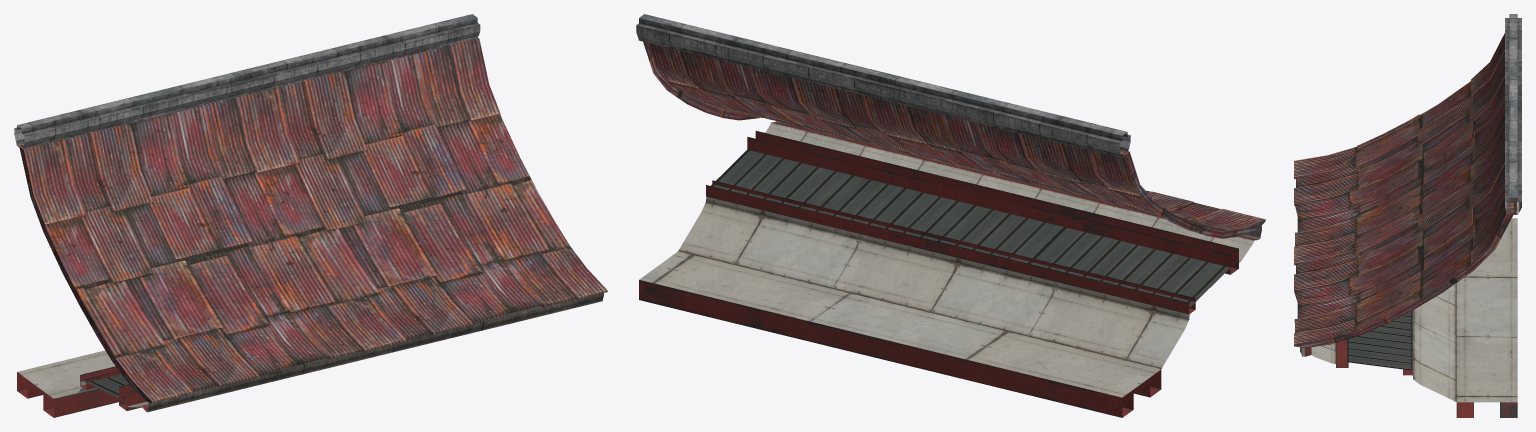
File: Pagoda_Tile_Roof_5000x2500_A.FBX
3 renders of one model, left to right at view 1: azimuth 30°, elevation 25°; view 2: azimuth 150°, elevation 25°; view 3: azimuth 270°, elevation 25°, orthographic. The views are drawn at different scales.
Parts seen in each view (by area): view 1: Geometry_Pagoda_Tile_Roof_5000x2500_A_LOD00; view 2: Geometry_Pagoda_Tile_Roof_5000x2500_A_LOD00; view 3: Geometry_Pagoda_Tile_Roof_5000x2500_A_LOD00.
Part boxes in pixels (x1,y1,x2,y2): Geometry_Pagoda_Tile_Roof_5000x2500_A_LOD00: [14, 14, 607, 417]; Geometry_Pagoda_Tile_Roof_5000x2500_A_LOD00: [636, 14, 1265, 417]; Geometry_Pagoda_Tile_Roof_5000x2500_A_LOD00: [1294, 14, 1521, 417].
Size of what is drawn, in the model's own units: 5000 by 2789 by 2618.
3 materials, 3 textured.
